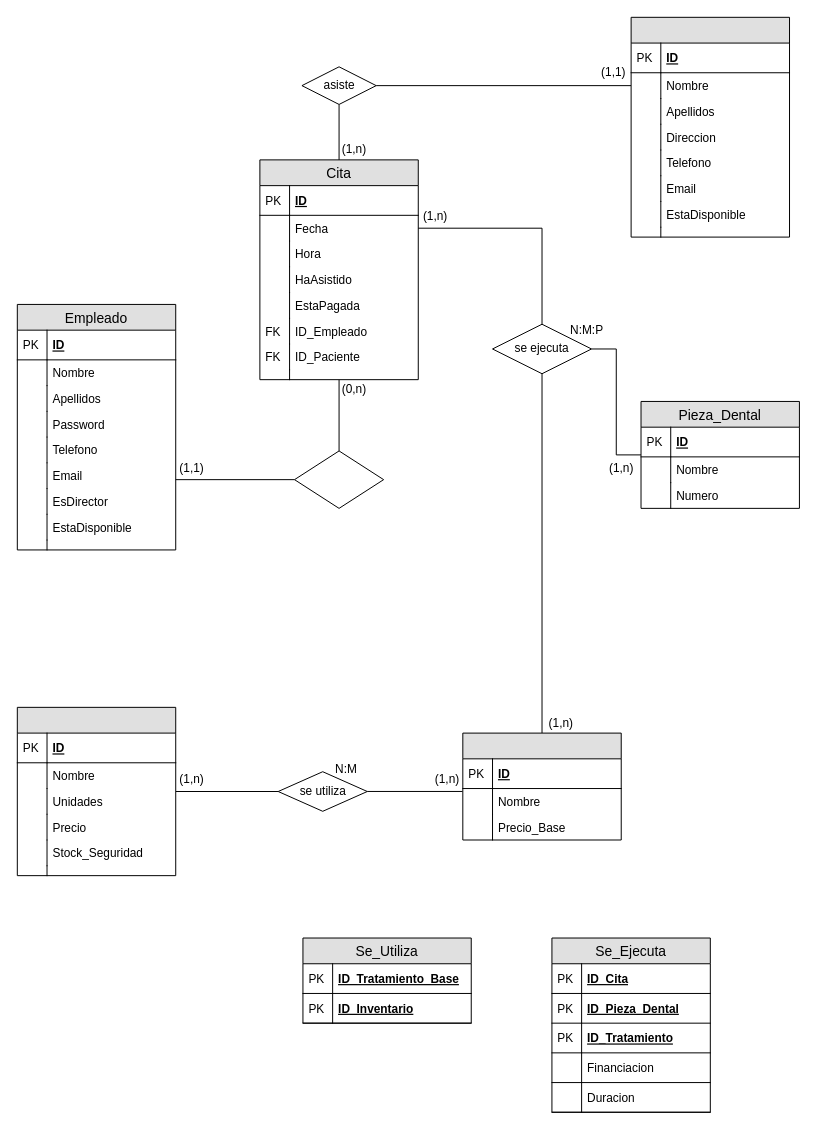
The diagram is 817 pixels wide and 1130 high, and some of its shapes have lost their labels. The shapes that lost their labels are listed below. From the top down, each one's box as (x1, y1, x2, y2) in pixels, then its label:
(630, 16, 790, 237): Paciente
(294, 450, 384, 508): administra
(16, 706, 176, 876): Inventario
(462, 732, 621, 840): Tratamiento_Base
